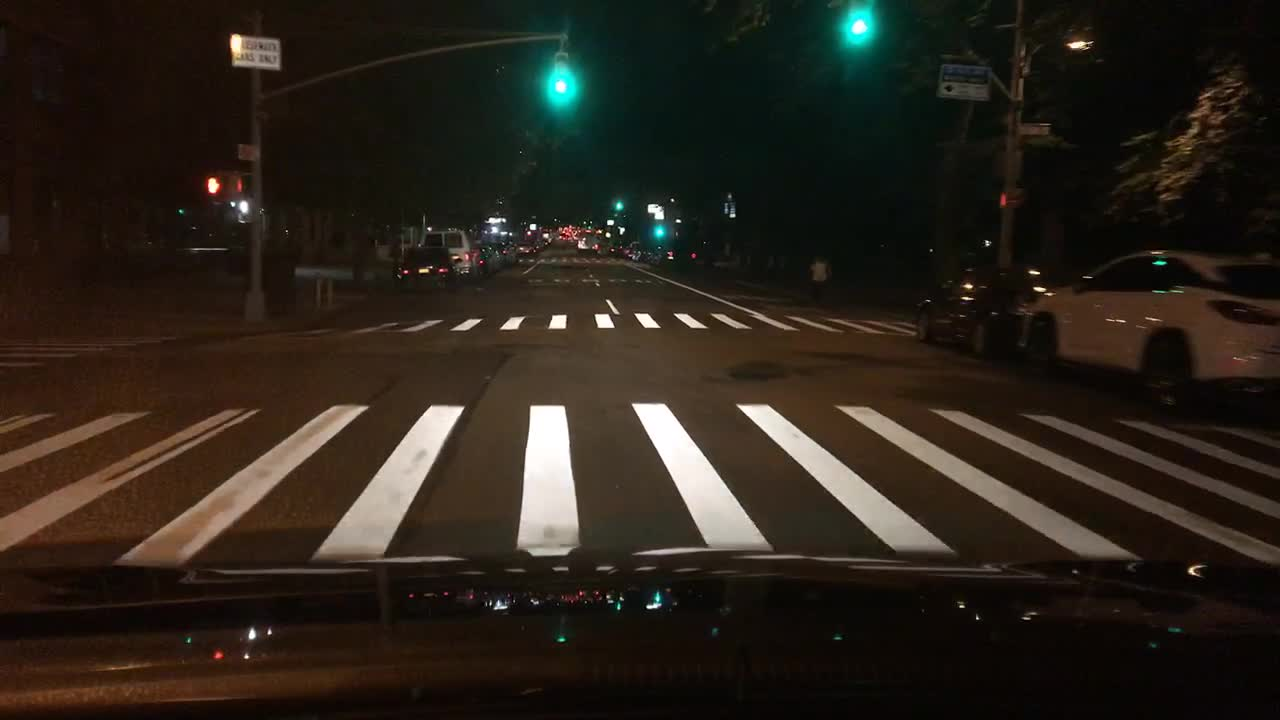car: (1020, 244, 1279, 412), (915, 262, 1054, 360), (395, 246, 462, 297), (421, 226, 480, 275), (659, 244, 701, 275), (479, 243, 499, 277), (496, 239, 516, 265), (613, 244, 635, 256), (515, 244, 536, 255), (639, 247, 655, 260), (561, 229, 570, 243), (536, 238, 546, 247)
person: (808, 250, 836, 300)
traffic light: (847, 0, 868, 42), (552, 50, 568, 97), (207, 172, 222, 199), (1000, 188, 1019, 208), (238, 198, 251, 221), (227, 177, 243, 193), (614, 197, 623, 212), (655, 229, 666, 238)
traffic sign: (935, 61, 988, 99), (229, 33, 280, 69), (1016, 123, 1051, 136), (235, 140, 254, 158)
truck: (578, 233, 603, 255)
